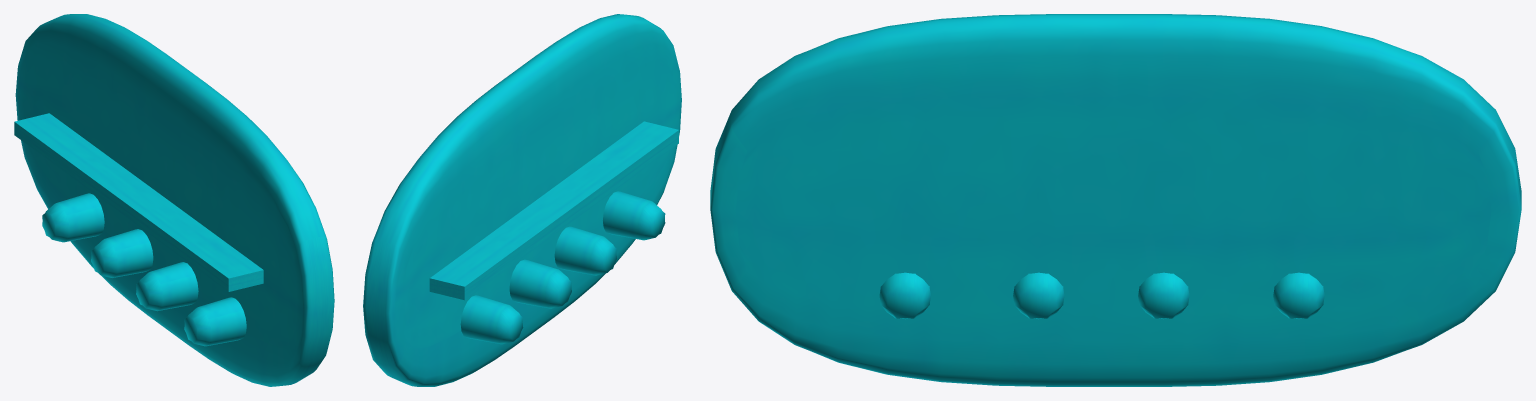
The model's file is perchero.fbx.
3 views of the same model, side by side, from view 1: azimuth 30°, elevation 25°; view 2: azimuth 150°, elevation 25°; view 3: azimuth 270°, elevation 25° (orthographic). The views are drawn at different scales.
Parts seen in each view (by area): view 1: pasted__polySurface16; view 2: pasted__polySurface16; view 3: pasted__polySurface16.
Boxes of the visible parts, x1=… form: pasted__polySurface16: x1=14, y1=14, x2=334, y2=386; pasted__polySurface16: x1=363, y1=14, x2=681, y2=386; pasted__polySurface16: x1=710, y1=14, x2=1521, y2=386.
Bounding box in the file's own units: 0.9366 × 2.83 × 5.63.
